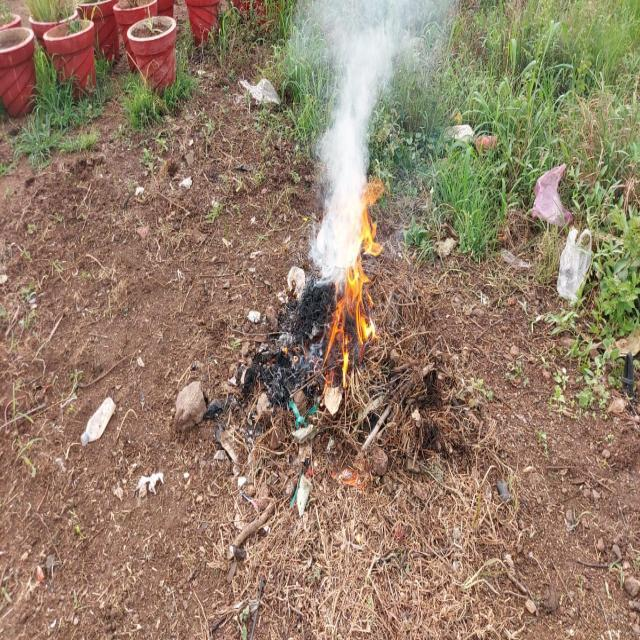Fire: (325, 251, 373, 385), (362, 180, 385, 257)
Smoke: (307, 2, 360, 264), (360, 3, 426, 95)
